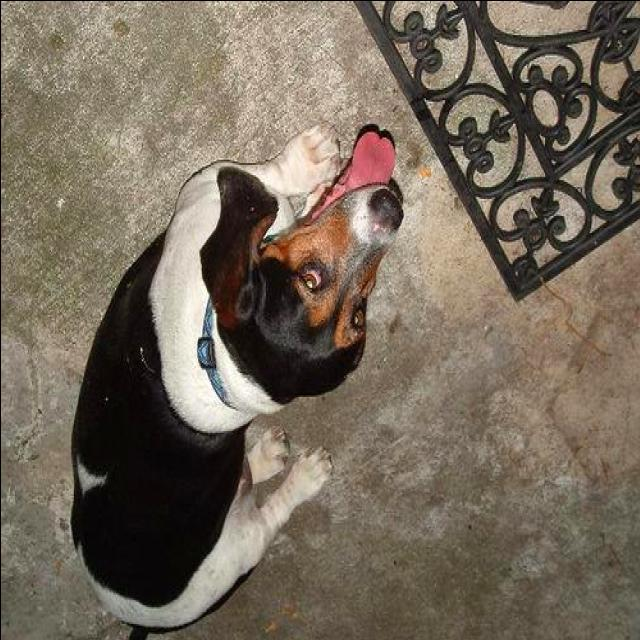basset: (67, 118, 406, 640)
